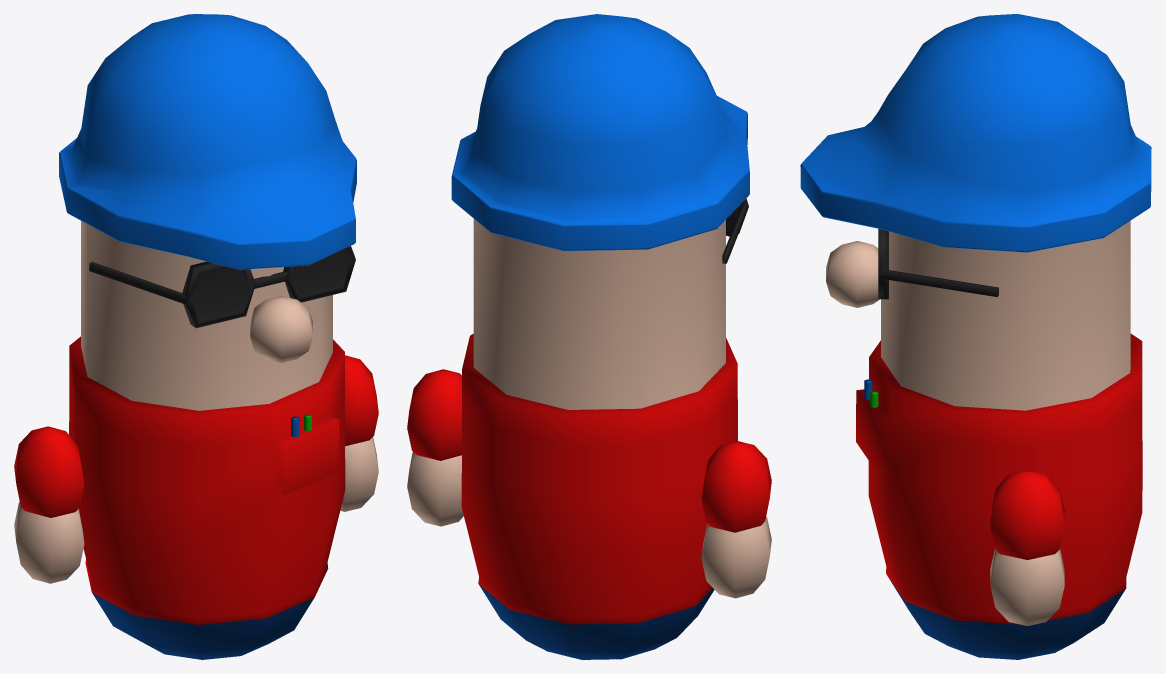
The model's file is character1.fbx.
3 views of the same model, side by side, from view 1: azimuth 30°, elevation 25°; view 2: azimuth 150°, elevation 25°; view 3: azimuth 270°, elevation 25° (orthographic).
Parts seen in each view (by area): view 1: pCylinder12; view 2: pCylinder12; view 3: pCylinder12.
Part boxes in pixels (x1,y1,x2,y2): pCylinder12: (14, 14, 378, 659); pCylinder12: (407, 14, 771, 659); pCylinder12: (800, 14, 1151, 659).
Bounding box in the file's own units: 1.02 × 1.69 × 0.864.
